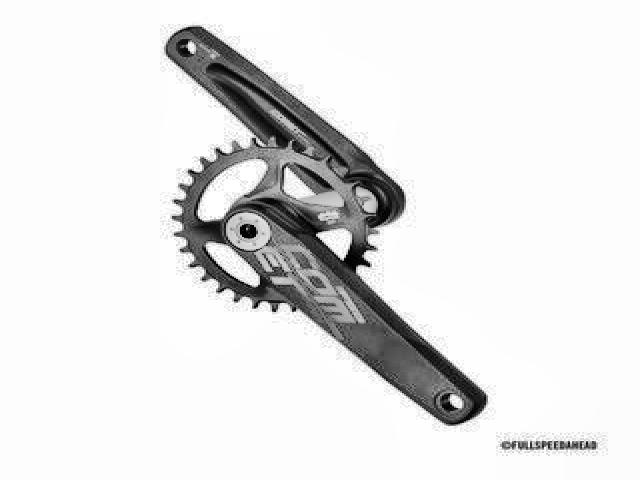cranks_set: (169, 136, 492, 430)
